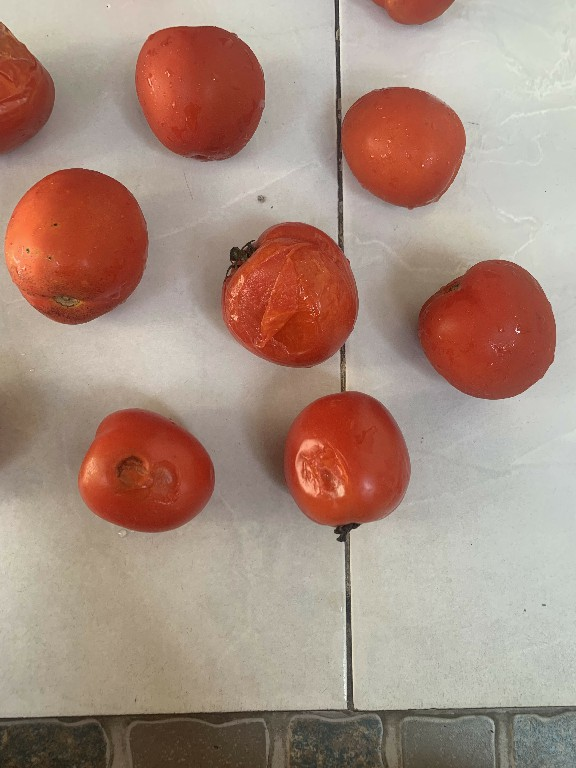NG: (7, 159, 150, 340), (271, 386, 420, 545), (213, 220, 363, 375), (69, 399, 219, 531)
OK: (407, 248, 565, 412), (127, 15, 274, 164), (334, 76, 479, 214)
